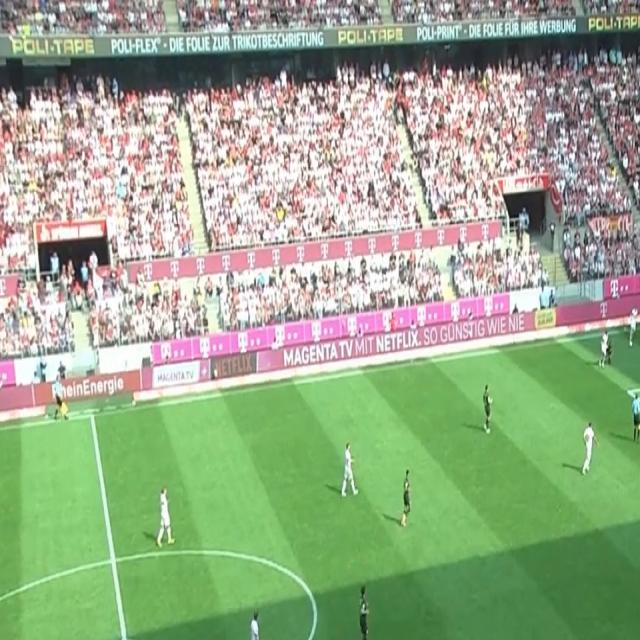ball: (629, 339, 633, 348)
